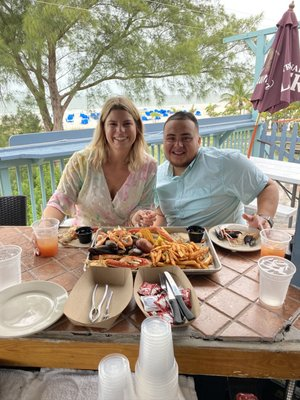pizza: (258, 256, 296, 308), (31, 218, 60, 257)
sushi: (210, 223, 260, 251), (86, 256, 130, 285)
